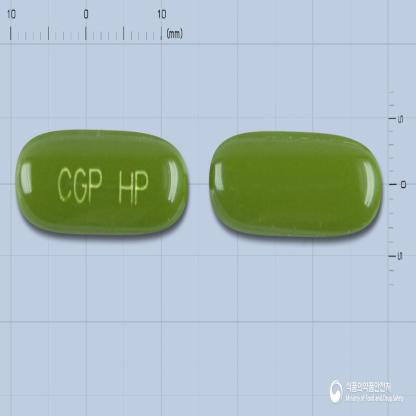pill: (13, 128, 190, 235), (208, 130, 382, 237)
